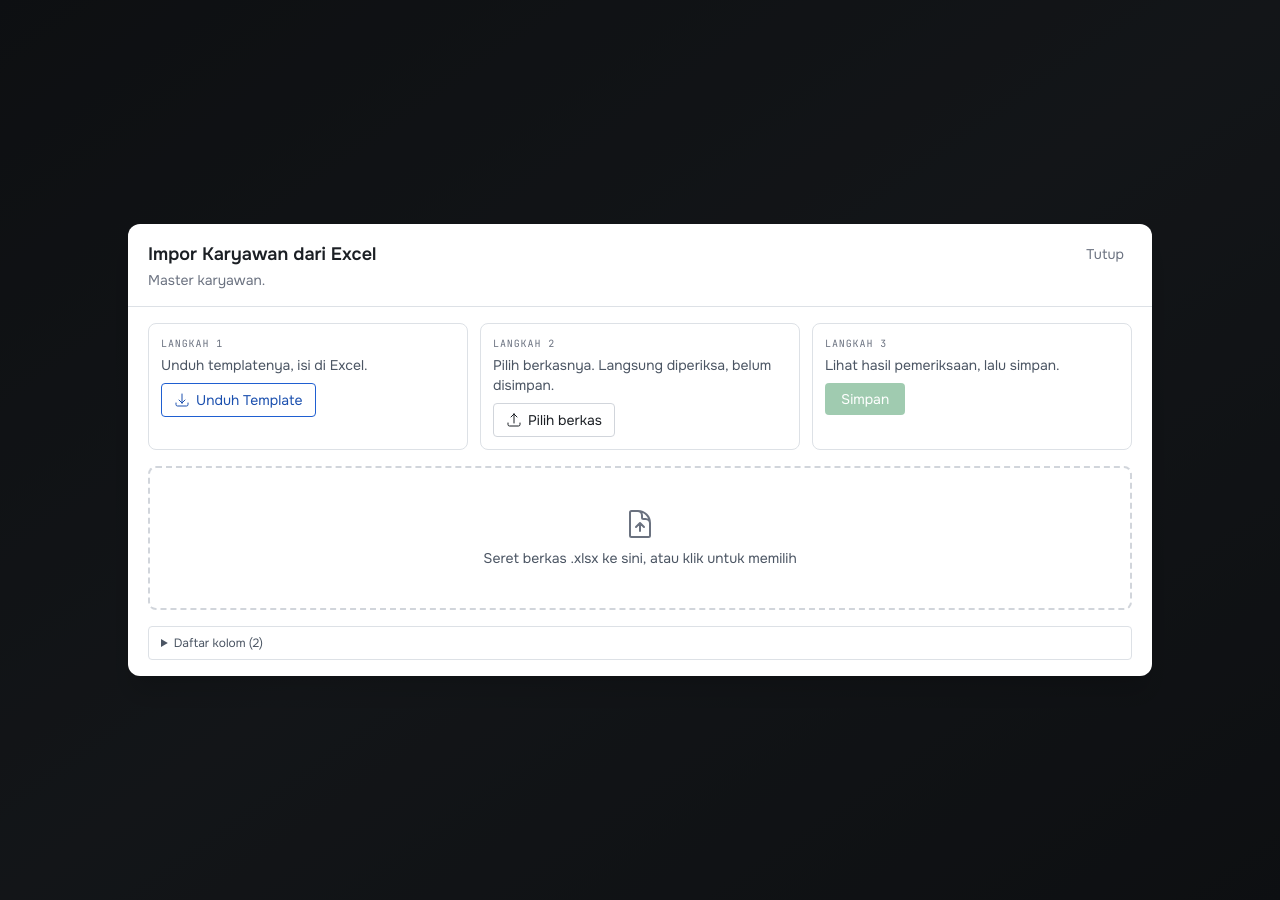
it: ImportExcelModal › kolom wajib ditandai bintang di daftar kolom
Click the heading "Daftar kolom (2)" at (218, 643), box [174,635,263,651]
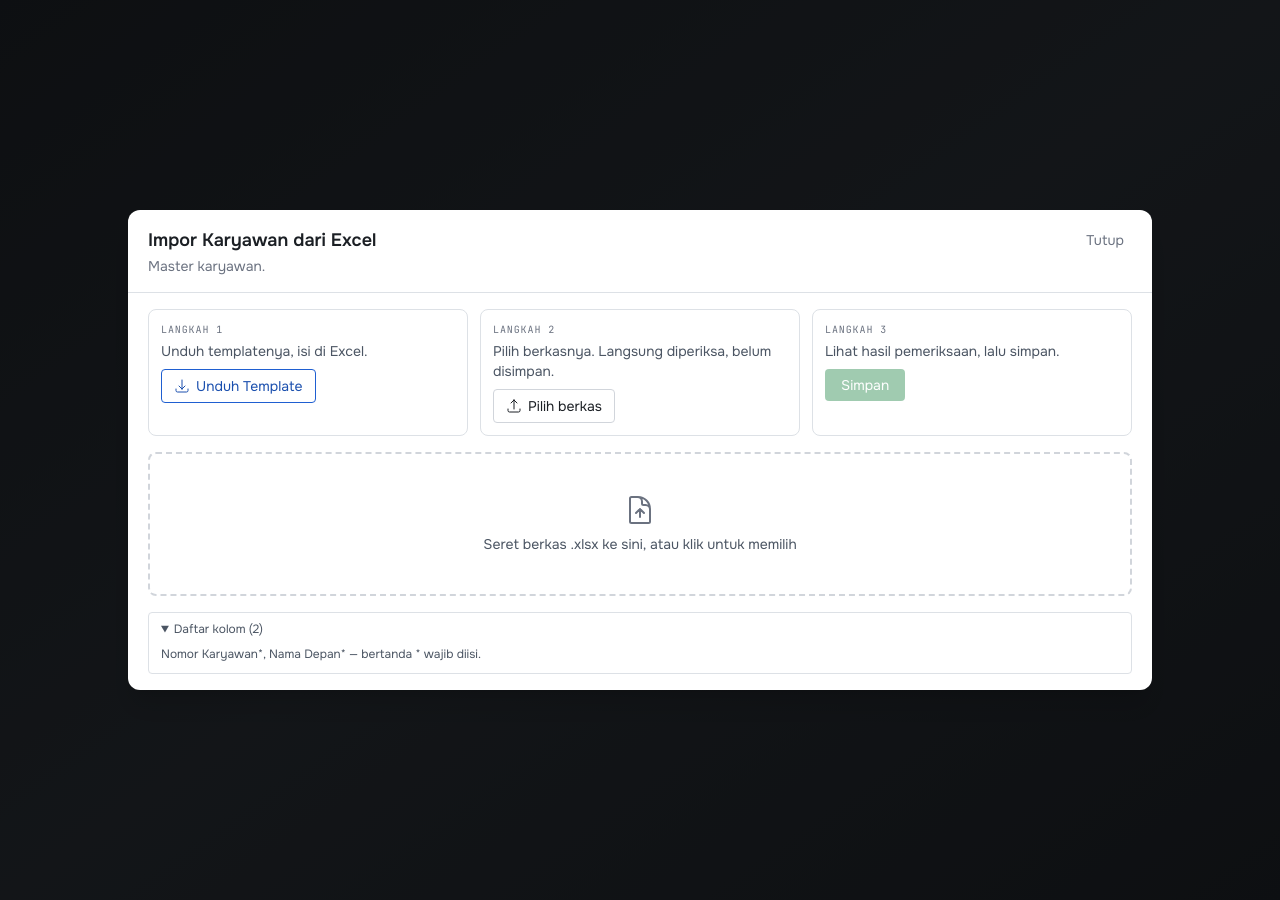
Result: the text "Nomor Karyawan*, Nama Depan* — bertanda * wajib diisi." is shown at [161,646,481,662]
